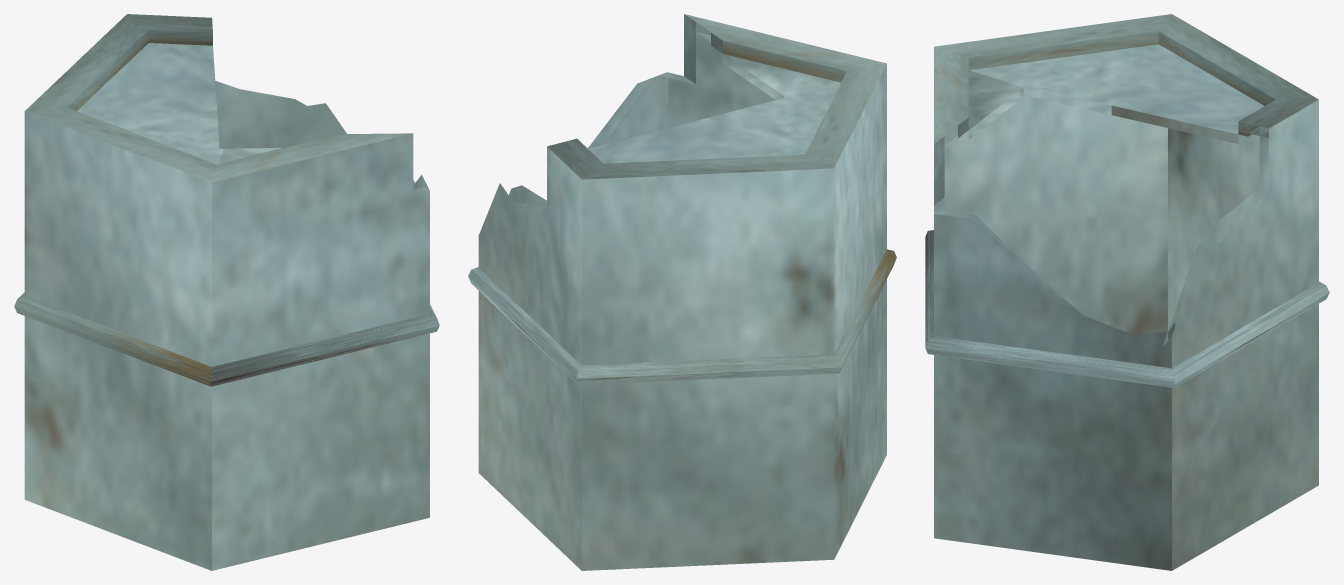
File: BarrelBroken.glb
3 views of the same model, side by side, from view 1: azimuth 30°, elevation 25°; view 2: azimuth 150°, elevation 25°; view 3: azimuth 270°, elevation 25° (orthographic).
Visible parts, largest first — view 1: Cylinder; view 2: Cylinder; view 3: Cylinder.
Part boxes in pixels (bbox=[...]): Cylinder: bbox=[14, 14, 439, 570]; Cylinder: bbox=[468, 14, 896, 570]; Cylinder: bbox=[925, 14, 1329, 570].
Size of the model in its own units: 2 by 2 by 1.9.
1 material, 1 textured.
